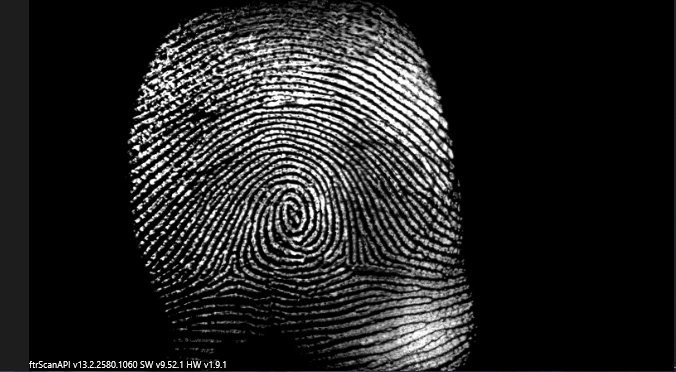nucelo: (272, 192, 309, 230)
verticilo: (211, 252, 247, 284), (329, 245, 358, 271)
